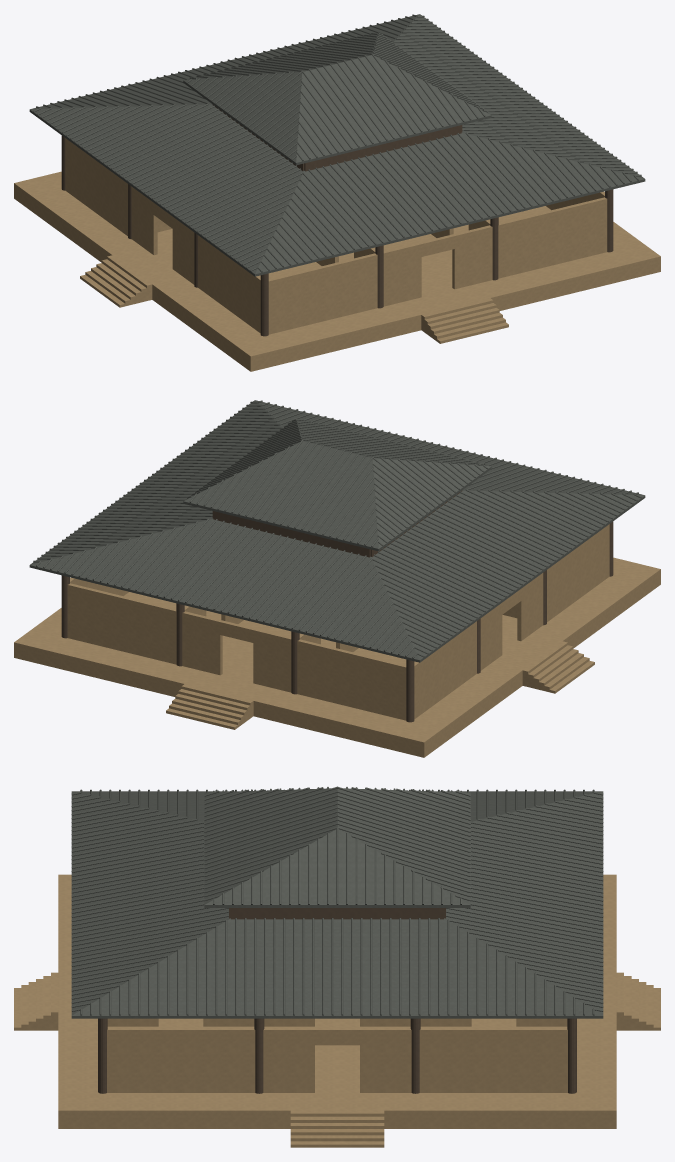
File: mingtang-B-LOD0.glb
3 renders of one model, top to bottom at view 1: azimuth 30°, elevation 25°; view 2: azimuth 150°, elevation 25°; view 3: azimuth 270°, elevation 25°, orthographic. The views are drawn at different scales.
Visible parts, largest first — view 1: mingtang-B-static_tile, mingtang-B-static_earth, mingtang-B-static_timber; view 2: mingtang-B-static_tile, mingtang-B-static_earth, mingtang-B-static_timber; view 3: mingtang-B-static_tile, mingtang-B-static_earth, mingtang-B-static_timber.
Part boxes in pixels (x1,y1,x2,y2): mingtang-B-static_tile: (29, 14, 645, 276); mingtang-B-static_earth: (14, 138, 660, 371); mingtang-B-static_timber: (61, 104, 613, 336); mingtang-B-static_tile: (29, 400, 645, 662); mingtang-B-static_earth: (14, 524, 660, 757); mingtang-B-static_timber: (61, 490, 613, 722); mingtang-B-static_tile: (71, 786, 603, 1018); mingtang-B-static_earth: (14, 874, 660, 1147); mingtang-B-static_timber: (98, 908, 576, 1093).
Size of the model in its own units: 28.96 by 10.08 by 28.96.
Materials: 3 (3 with a texture image).
